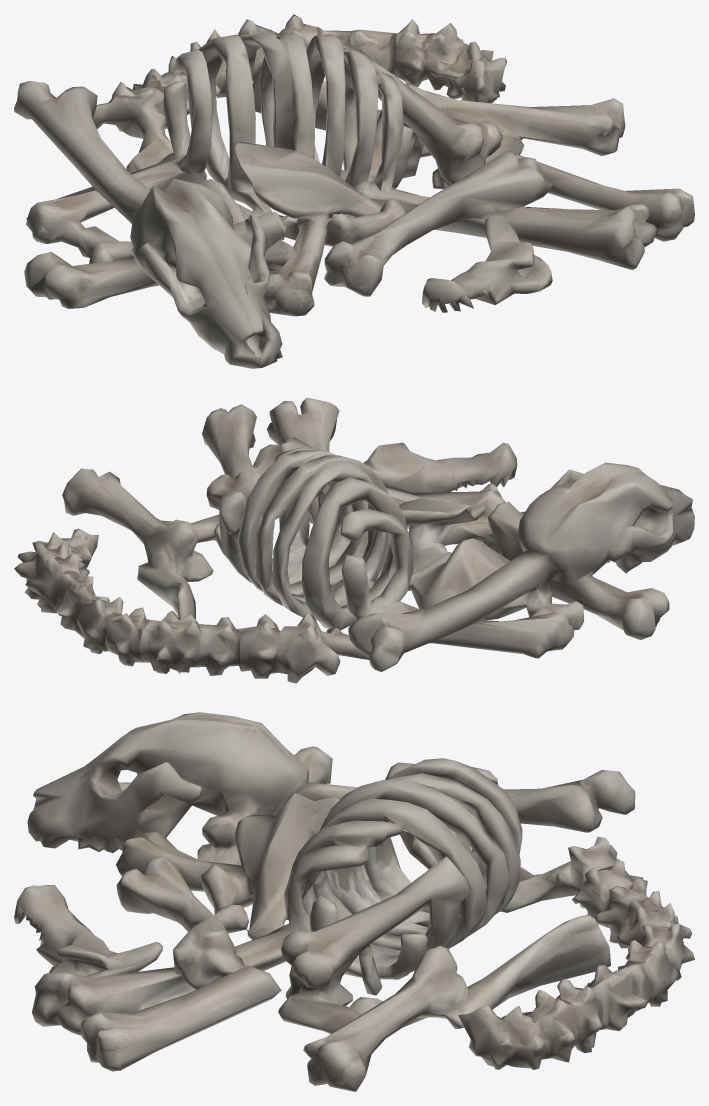
File: Meshy_AI_Remains_of_a_Fallen_S_0520213950_texture.fbx
3 views of the same model, one above another, from view 1: azimuth 30°, elevation 25°; view 2: azimuth 150°, elevation 25°; view 3: azimuth 270°, elevation 25° (orthographic). The views are drawn at different scales.
Parts seen in each view (by area): view 1: Mesh_0; view 2: Mesh_0; view 3: Mesh_0.
Part boxes in pixels (x1,y1,x2,y2): Mesh_0: (14,14,694,368); Mesh_0: (14,397,694,683); Mesh_0: (14,712,694,1091).
Bounding box in the file's own units: 191 × 44.67 × 173.
Materials: 1 (1 with a texture image).
